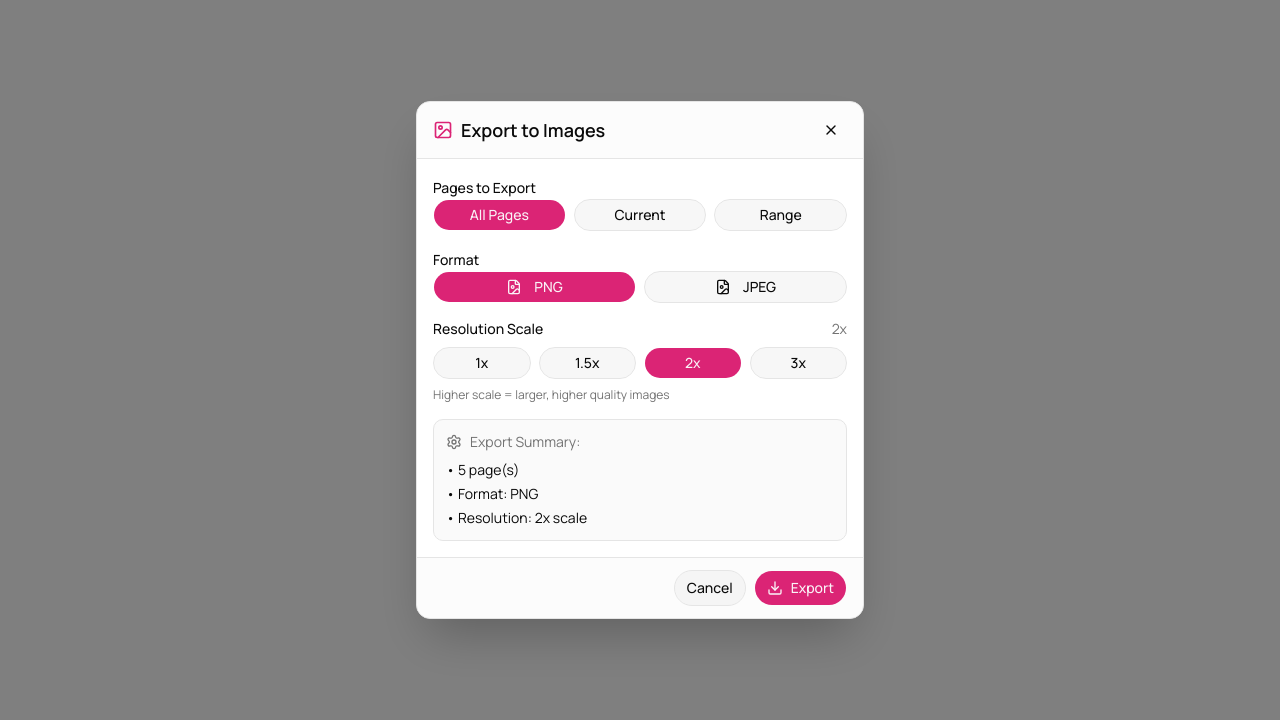
Scenario: ExportToImagesModal › should update summary when switching to current page mode
The width and height of the screenshot is (1280, 720).
Click the button "Current" at {"x": 640, "y": 215}, box x1=574 y1=199 x2=706 y2=231
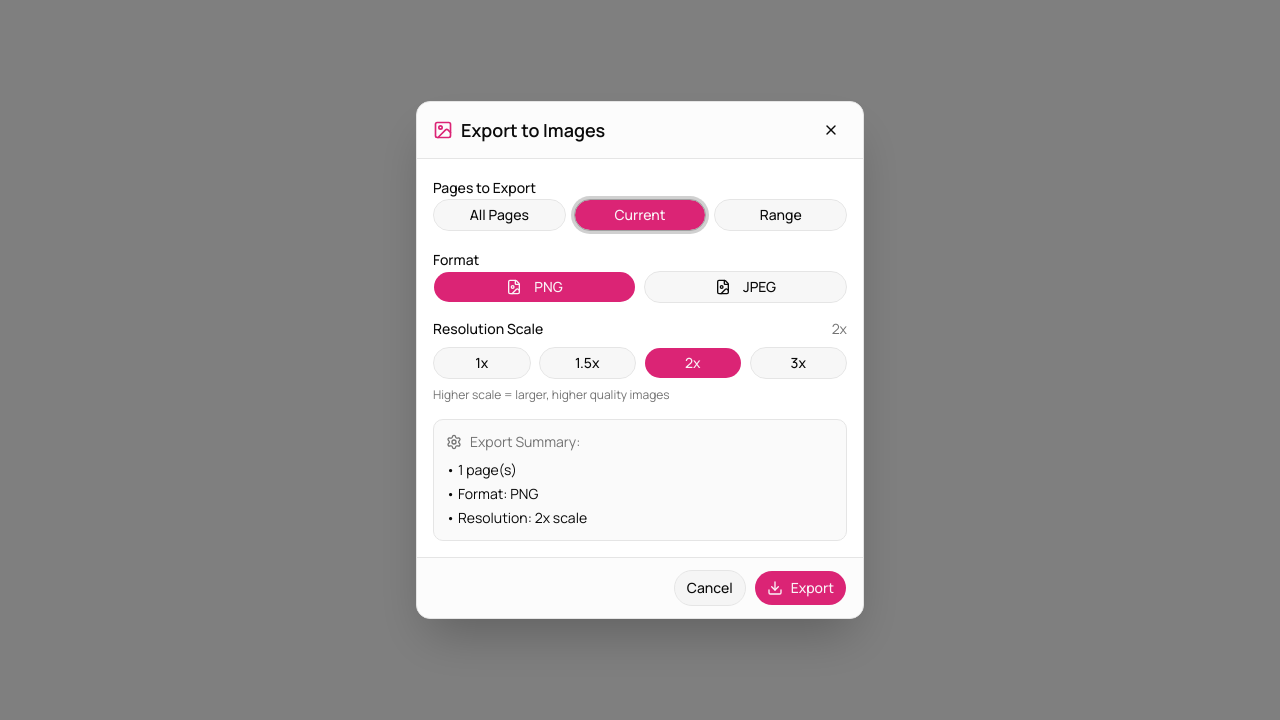
Expected: the list item "• 1 page(s)" is shown, x1=446 y1=460 x2=517 y2=479
